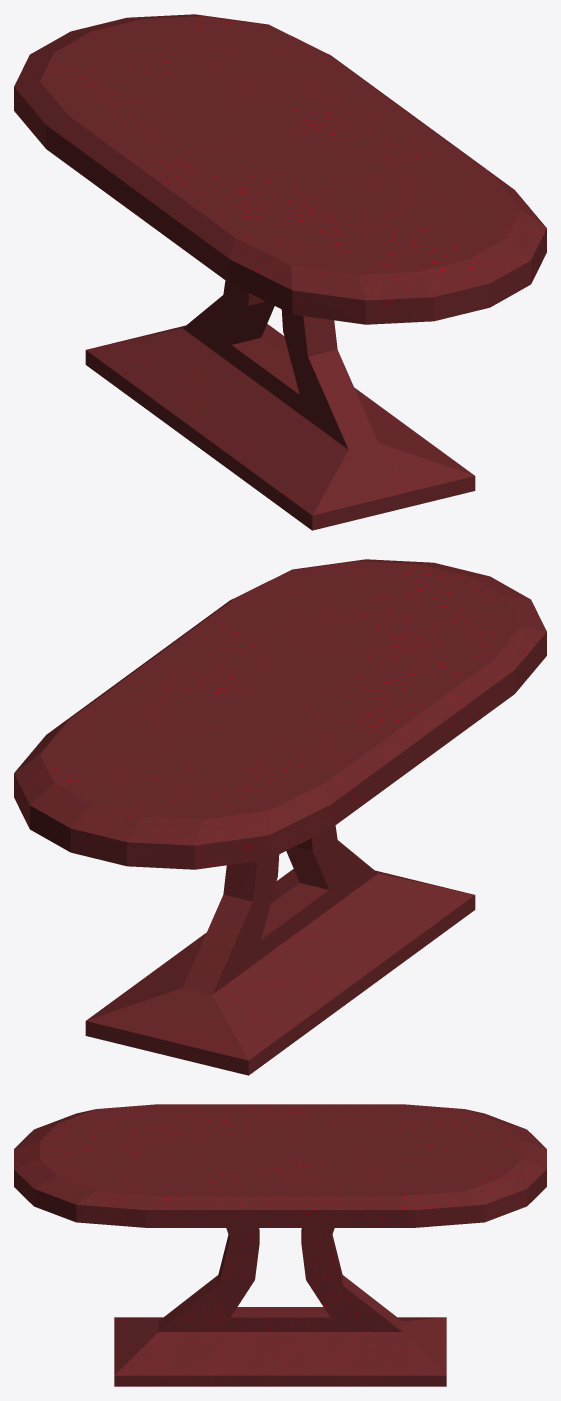
File: Bord1.fbx
3 renders of one model, top to bottom at view 1: azimuth 30°, elevation 25°; view 2: azimuth 150°, elevation 25°; view 3: azimuth 270°, elevation 25°, orthographic. The views are drawn at different scales.
Parts seen in each view (by area): view 1: Vardagsrumsbord; view 2: Vardagsrumsbord; view 3: Vardagsrumsbord.
Part boxes in pixels (x1,y1,x2,y2): Vardagsrumsbord: (14, 14, 546, 530); Vardagsrumsbord: (14, 559, 546, 1075); Vardagsrumsbord: (14, 1104, 546, 1386).
Size of the model in its own units: 7.69 by 7.28 by 16.97.
Materials: 1 (1 with a texture image).
